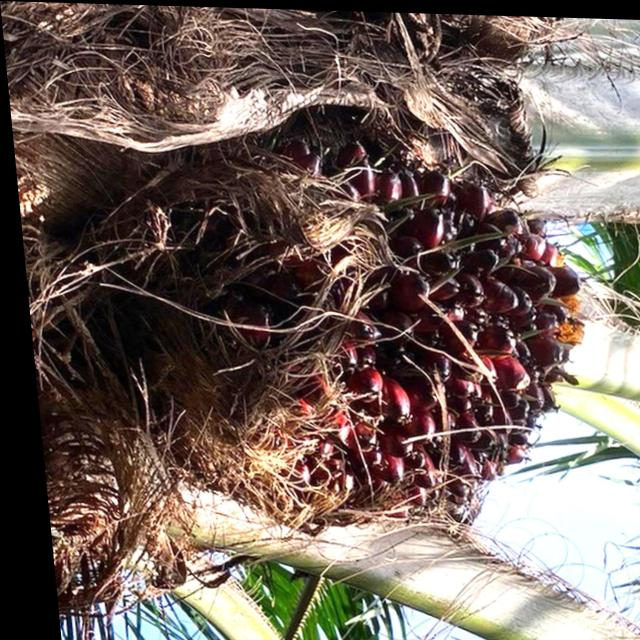ripe: (172, 129, 597, 520)
